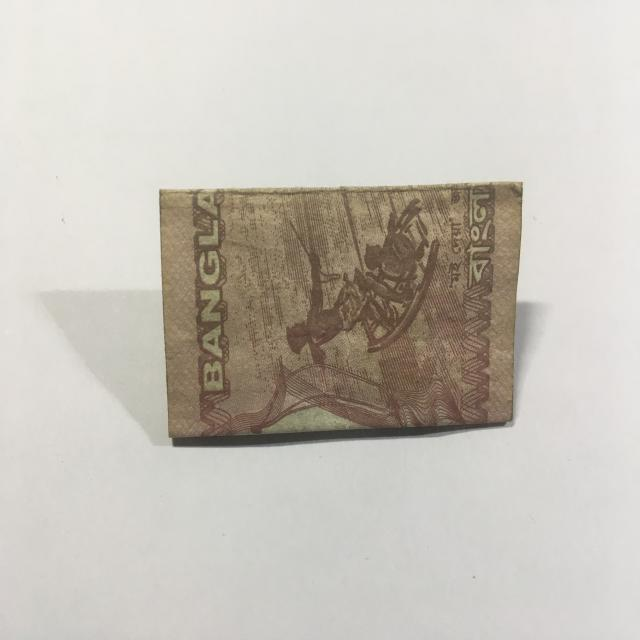Taka: (150, 180, 519, 434)
